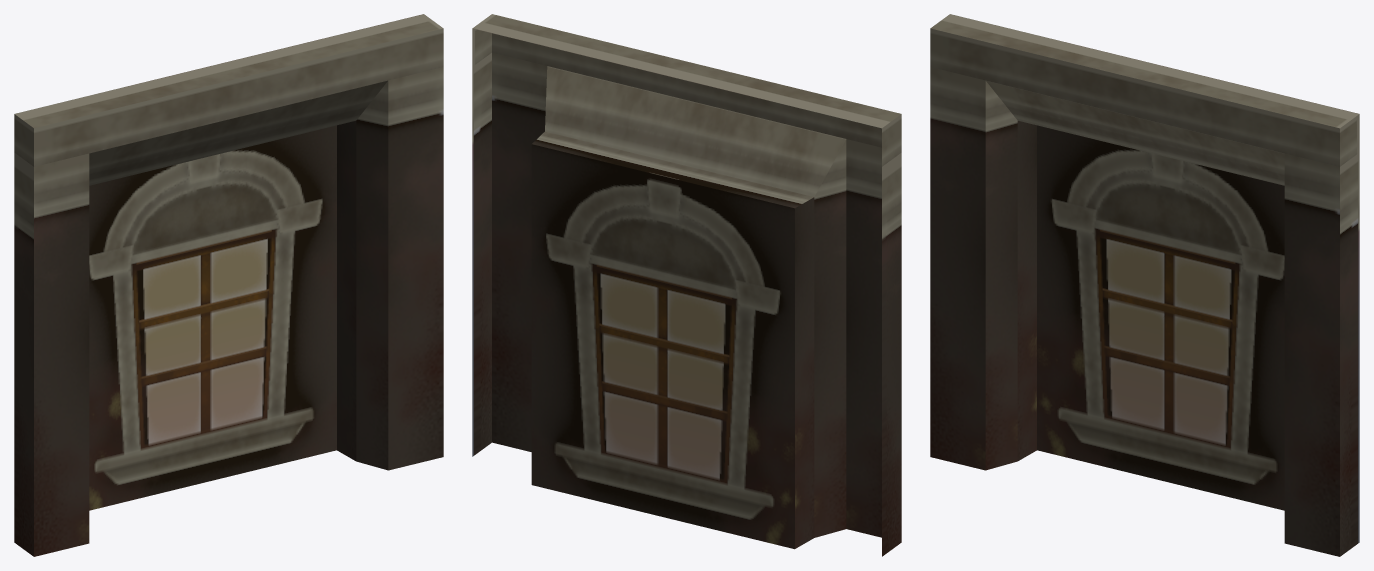
The model's file is Deco_Window.fbx.
The picture shows the model from 3 angles, left to right: view 1: azimuth 30°, elevation 25°; view 2: azimuth 150°, elevation 25°; view 3: azimuth 330°, elevation 25°; orthographic projection.
Parts seen in each view (by area): view 1: window; view 2: window; view 3: window.
Part boxes in pixels (x1,y1,x2,y2): window: (14,14,443,556); window: (472,14,901,556); window: (930,14,1359,556).
Bounding box in the file's own units: 400 × 400 × 56.81.
